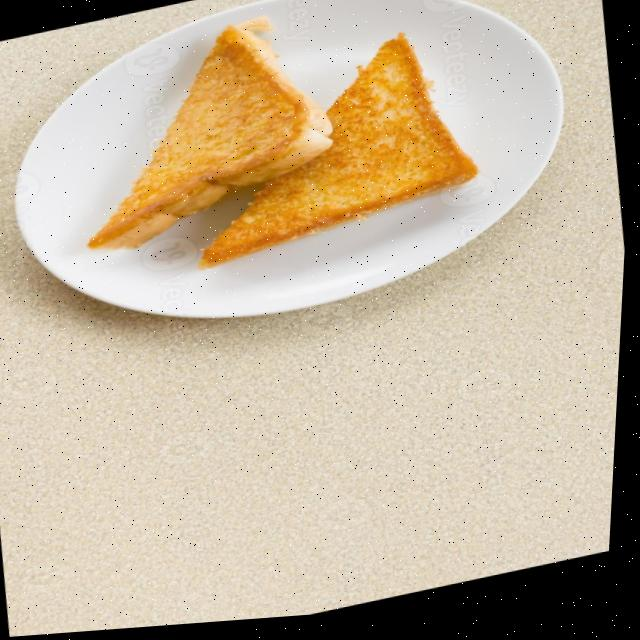Bread: (202, 40, 480, 272), (91, 21, 333, 252)
